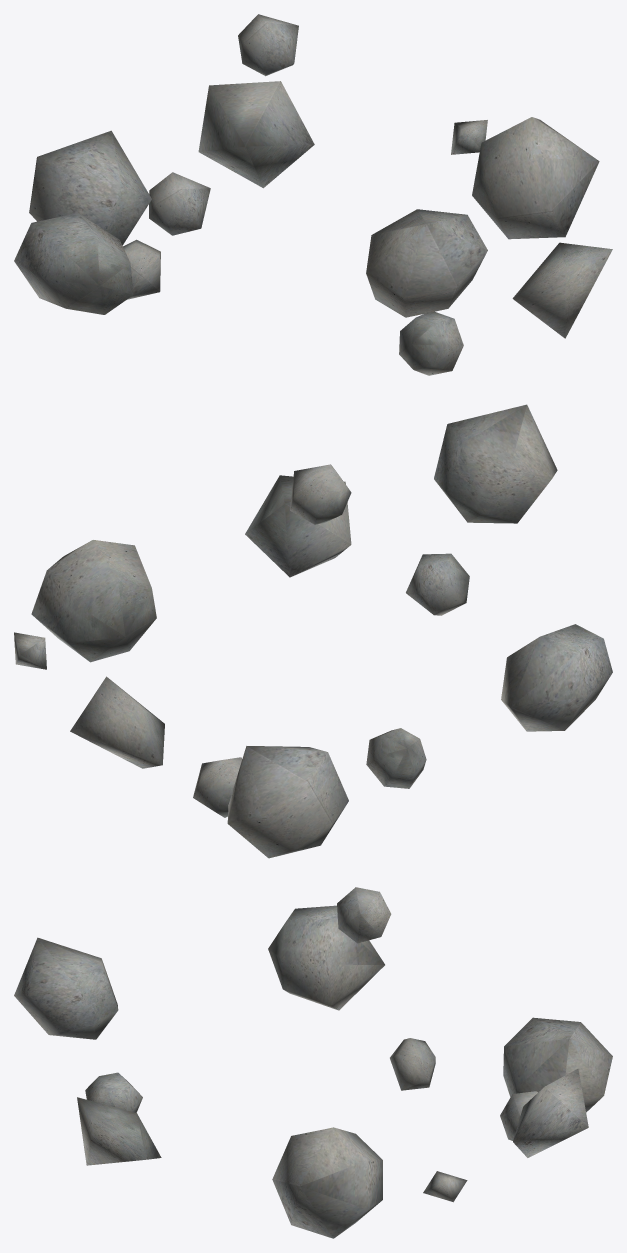
File: stone_effect13.obj
The picture shows the model from 3 angles, top to bottom: view 1: azimuth 30°, elevation 25°; view 2: azimuth 150°, elevation 25°; view 3: azimuth 270°, elevation 25°; orthographic projection. The views are drawn at different scales.
Visible parts, largest first — view 1: Sphere011; view 2: Sphere011; view 3: Sphere011.
Boxes of the visible parts, x1,y1,x2,y2 form: Sphere011: (14, 14, 612, 375); Sphere011: (14, 404, 612, 858); Sphere011: (14, 887, 612, 1238).
Size of the model in its own units: 247 by 123 by 259.
Materials: 1 (1 with a texture image).
